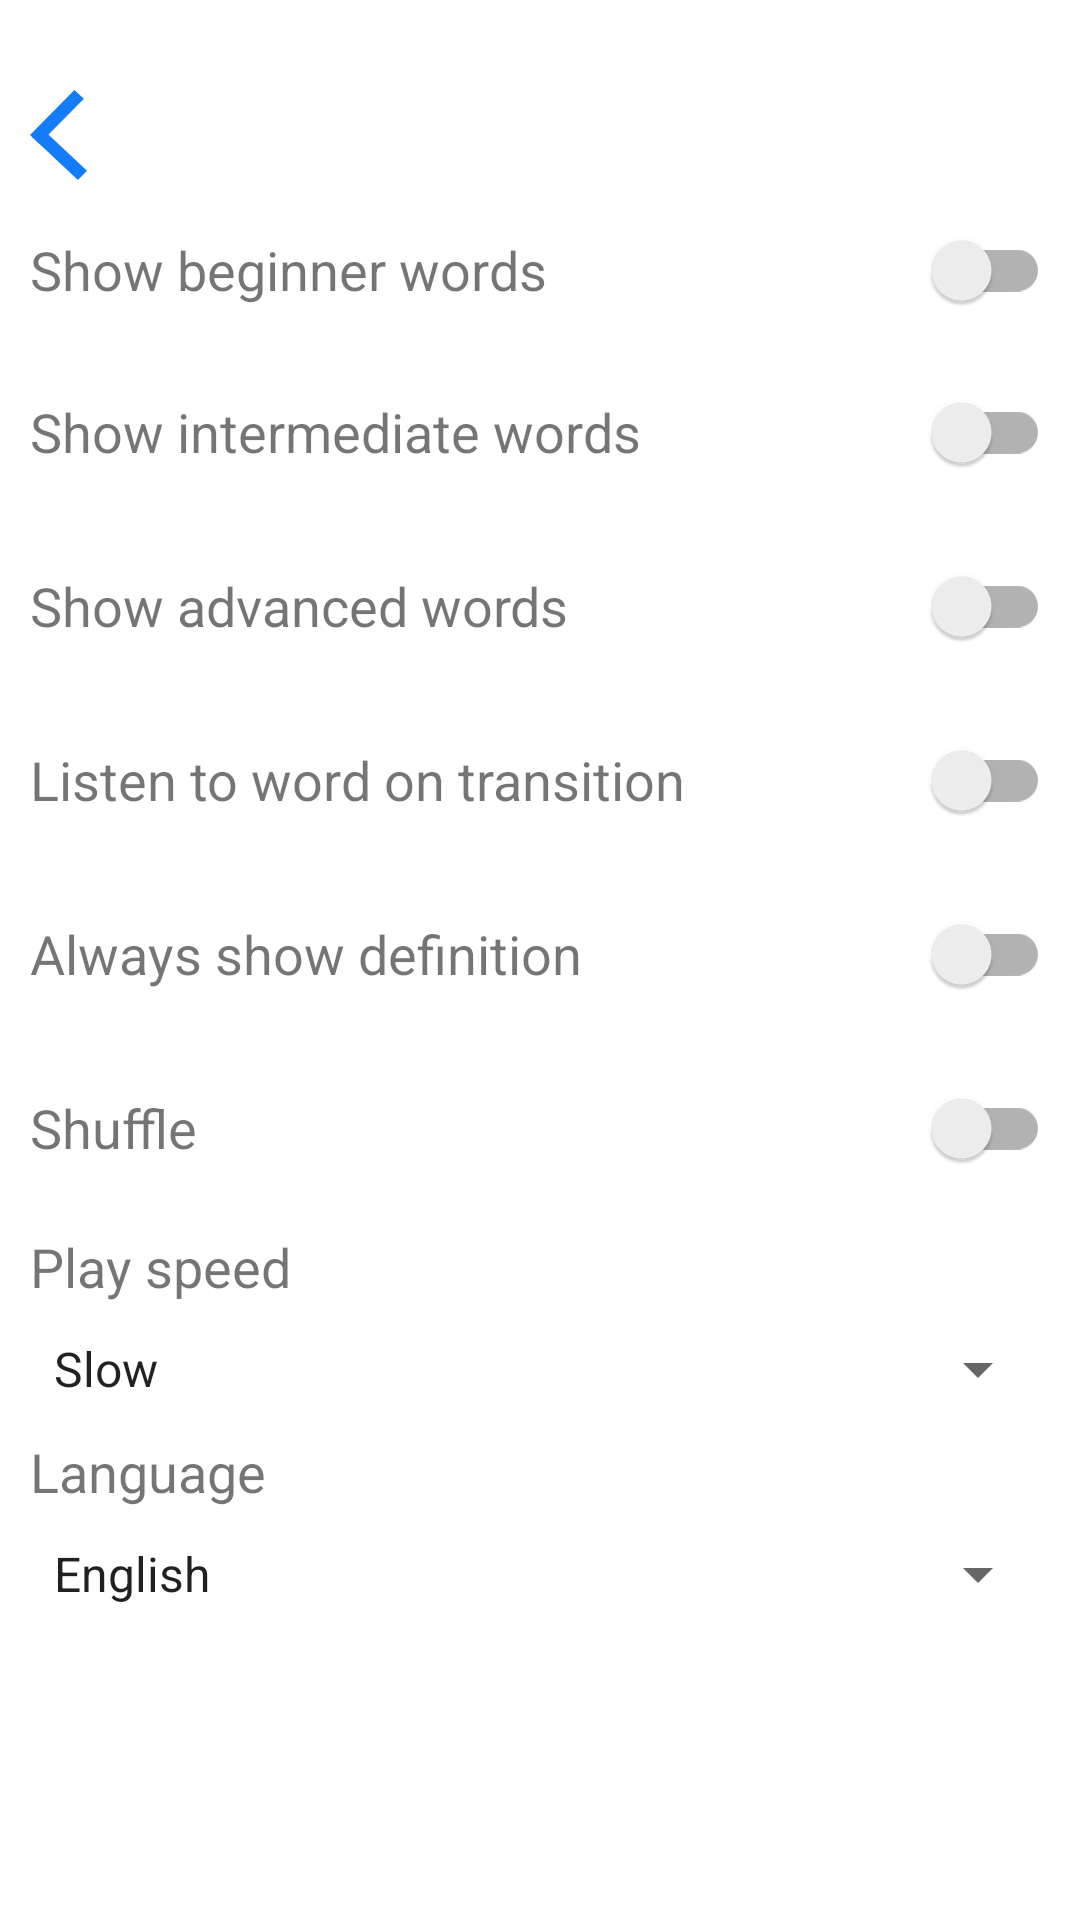

Named icons in this screenshot (1080px×1920px) and their centers, point (x, y):
back: point (58, 135)
